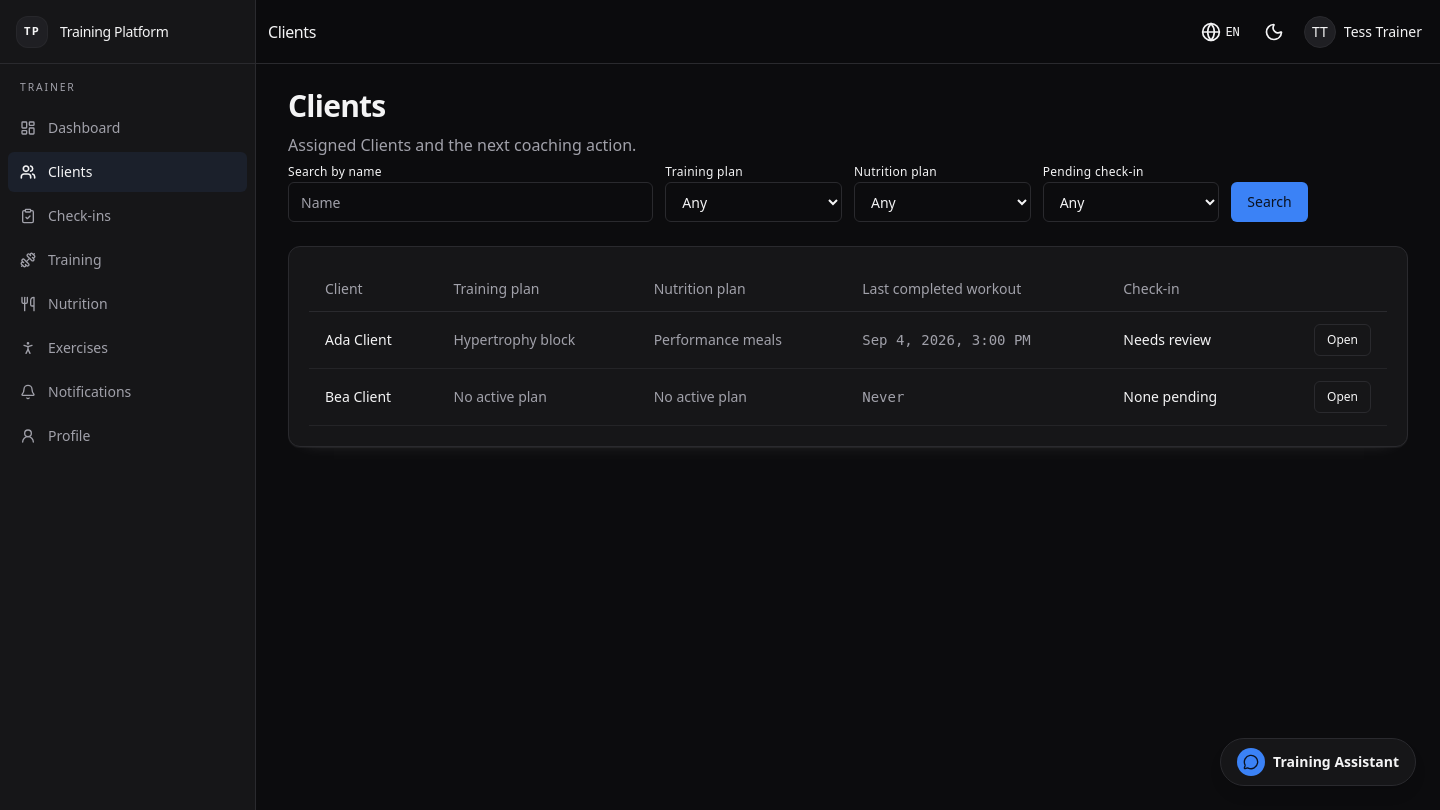
it: Trainer workspace › lists assigned clients with search
Check: the heading "Clients" is shown, box left=288, top=85, right=386, bottom=126
Check: the text "Ada Client" is shown, box left=309, top=312, right=438, bottom=368
Type "Ada" into the field labelled "Search by name".
click(471, 202); type("Ada")  # box left=288, top=182, right=653, bottom=222
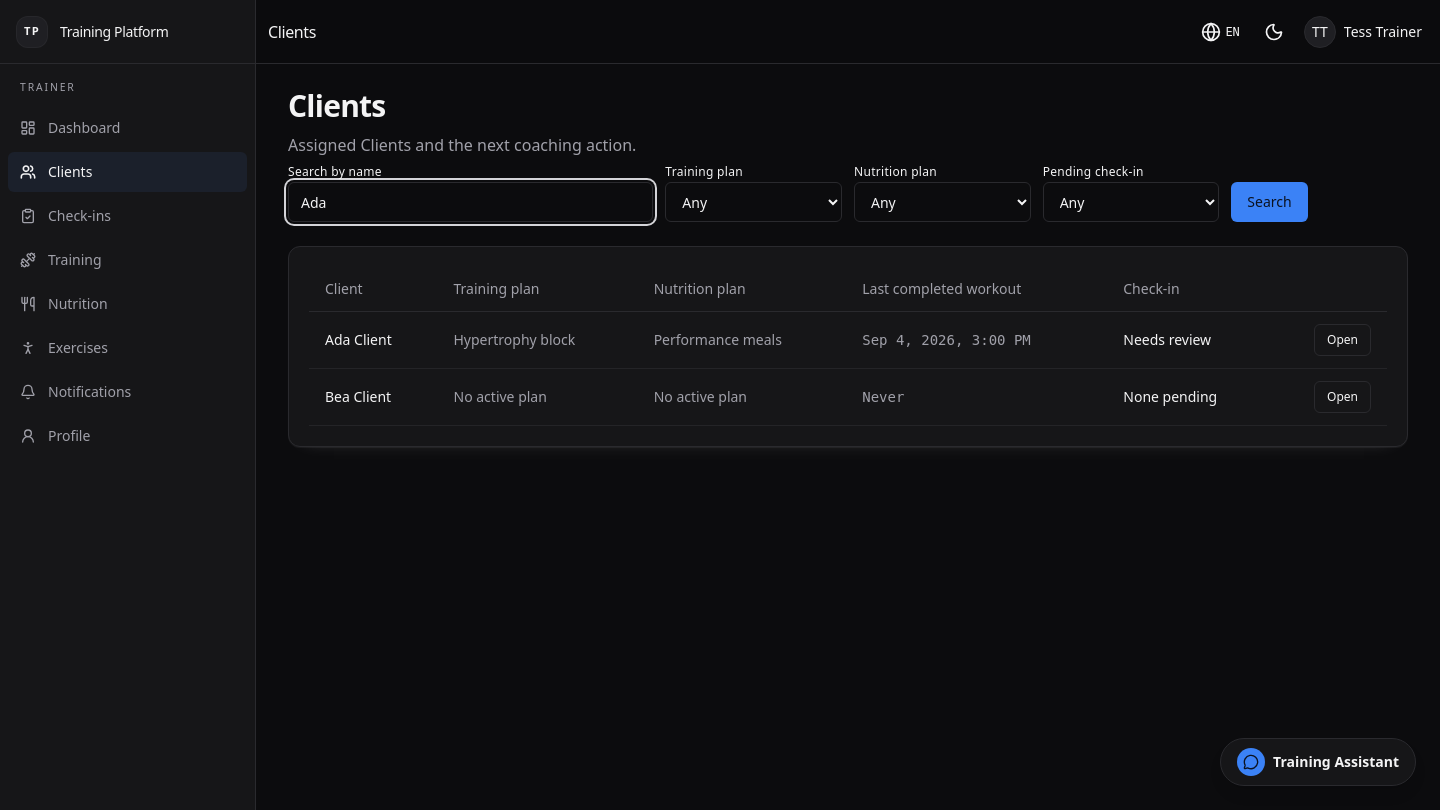
Click the button "Search".
click(1269, 202)  # box left=1231, top=182, right=1308, bottom=222
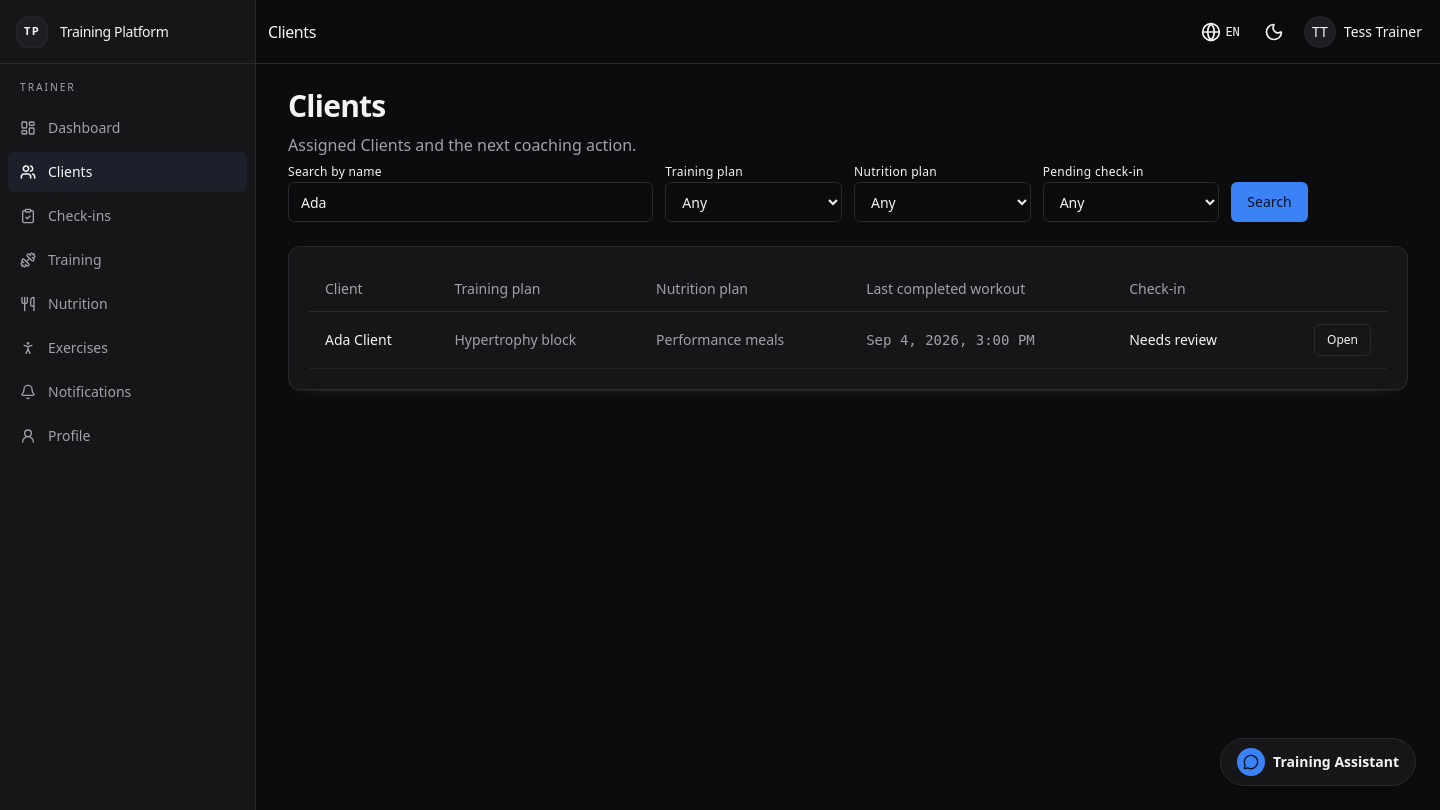
Check: the text "Ada Client" is shown, box left=309, top=312, right=438, bottom=368
Check: the text "Bea Client" is gone
